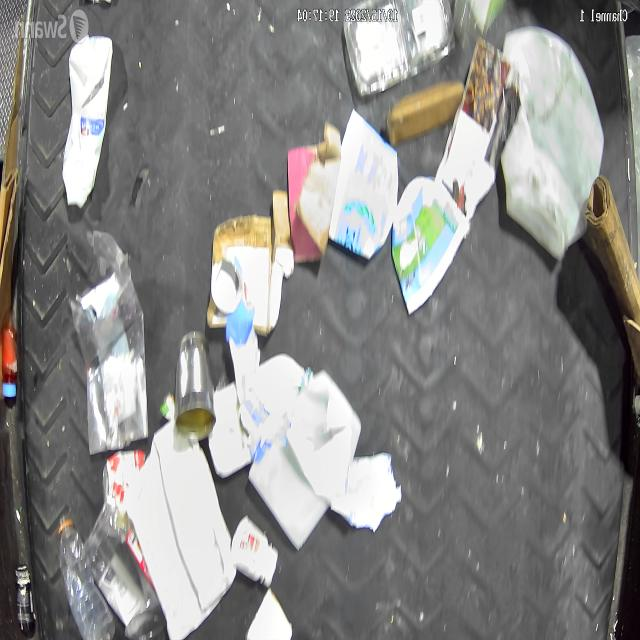can: (174, 329, 218, 445), (101, 448, 148, 507)
milk_jug: (498, 23, 606, 263), (60, 32, 115, 212)
plastic_bottle: (56, 509, 116, 640)
